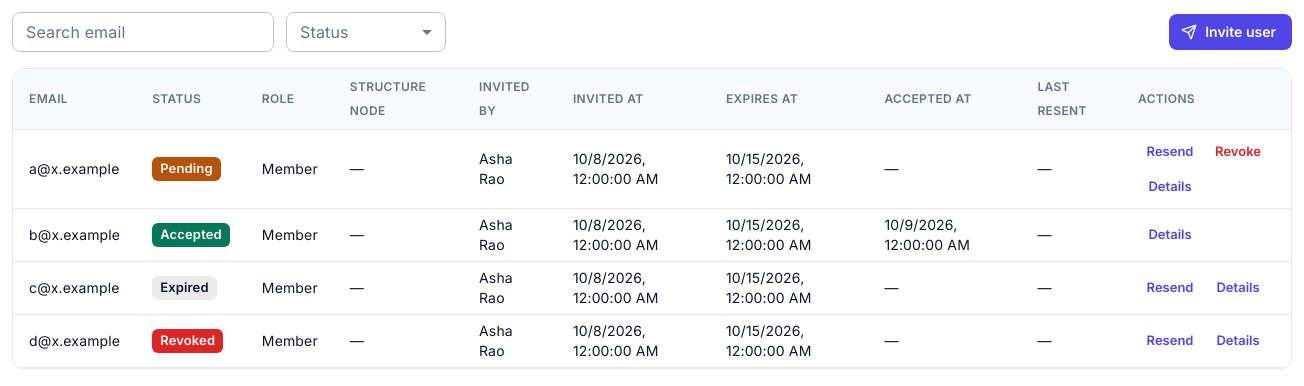
Test: OrganizationInvitationsCard › filters by status and email
The image size is (1304, 386).
Step 1. Type "b@" into the field labelled "Search email" → (143, 32), box [12,12,274,52]
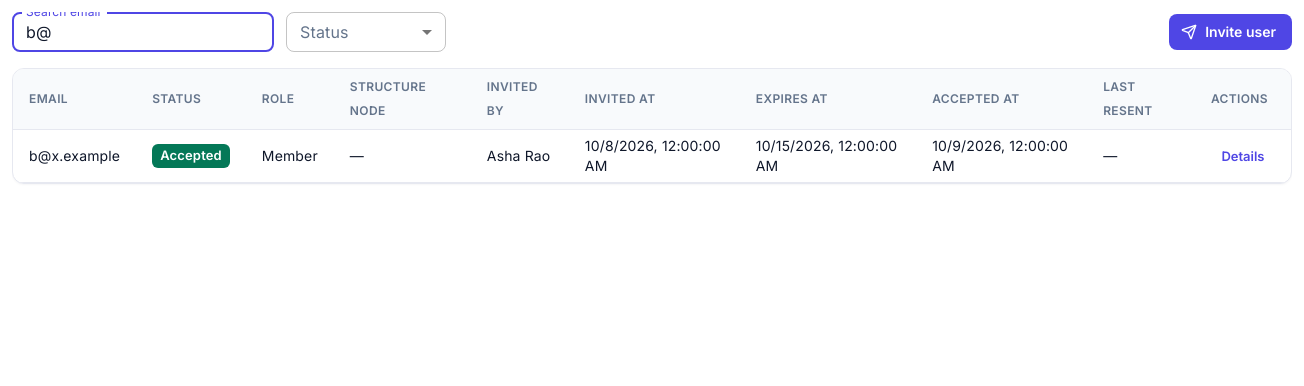
Expected: the text "b@x.example" is shown, [13,130,136,182]
Result: the text "a@x.example" is gone
